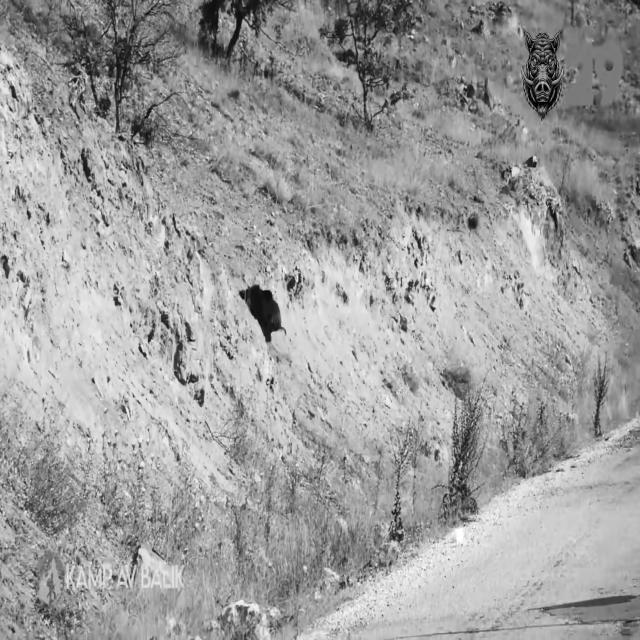boar: (521, 28, 562, 119), (239, 284, 282, 341)
